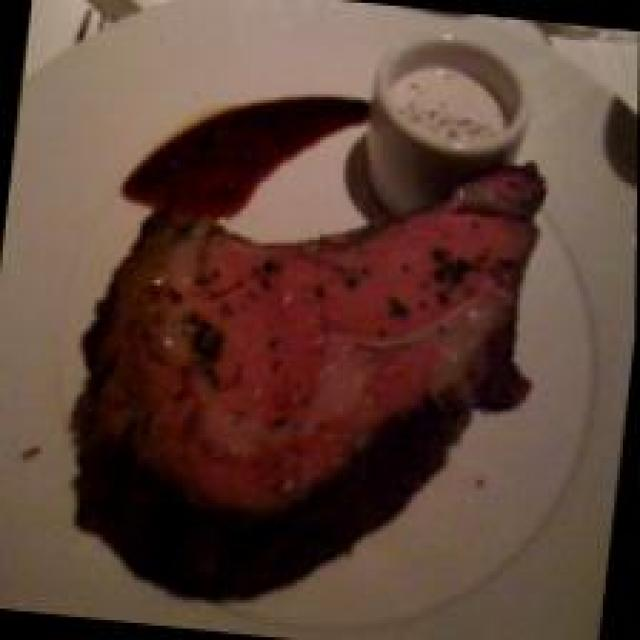Rib: (70, 123, 567, 577)
